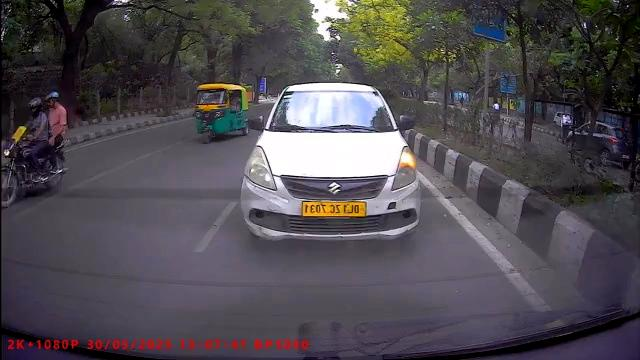passenger_with_helmet: (1, 90, 66, 208)
